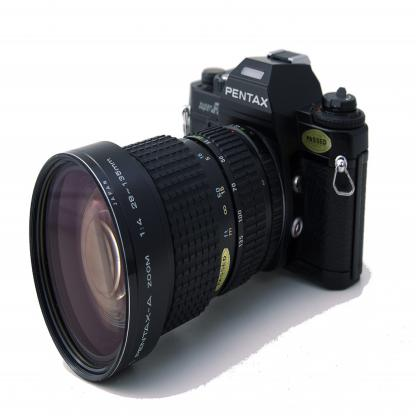Camera: (21, 34, 369, 384)
